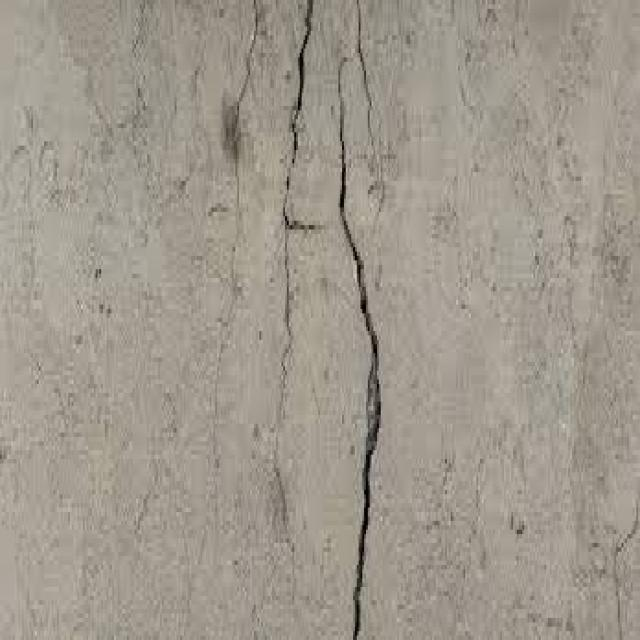Crack: (278, 0, 377, 636), (188, 0, 258, 596)
